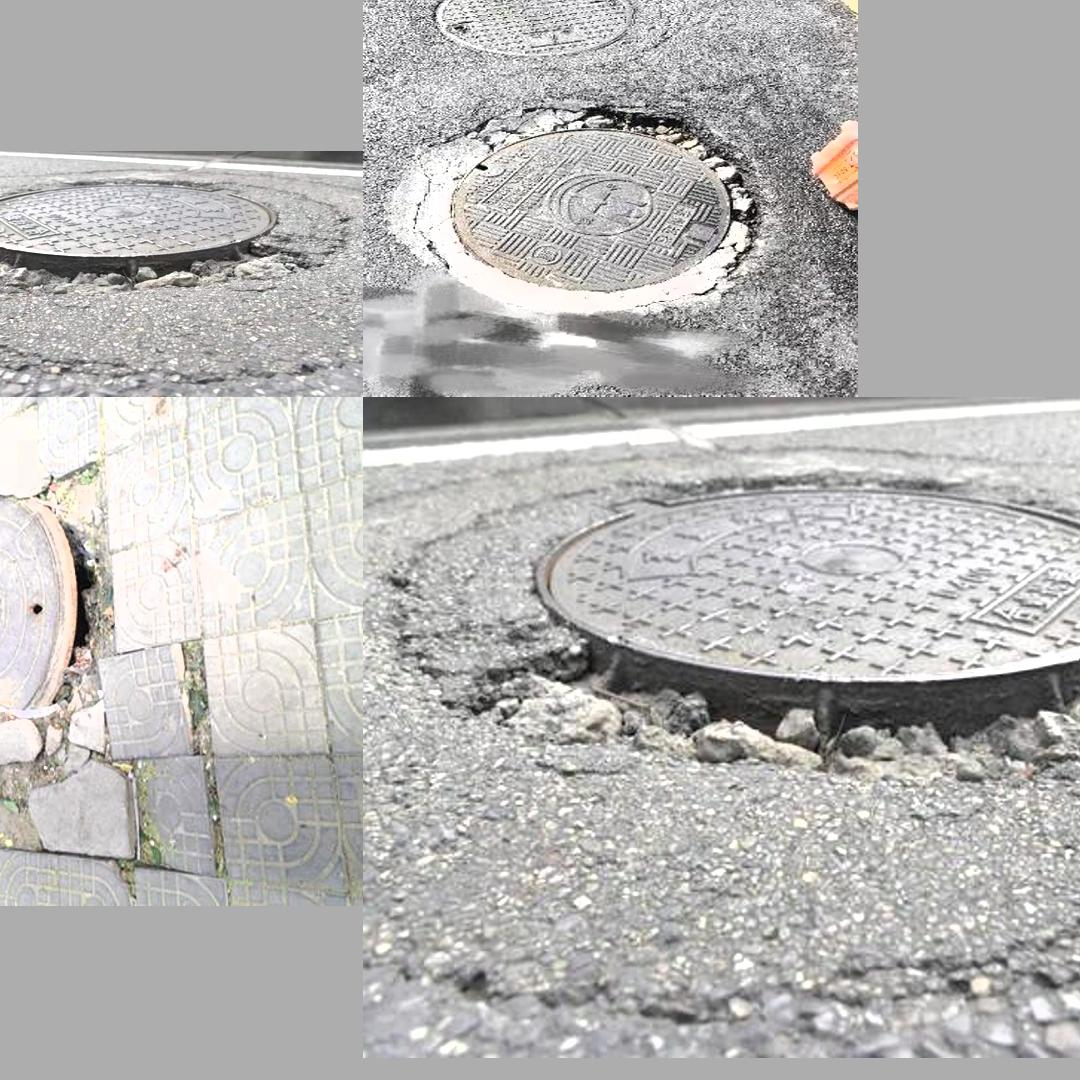circle: (395, 458, 1080, 804), (394, 107, 759, 323), (0, 462, 138, 863), (0, 175, 345, 307)
good: (429, 0, 638, 57)
